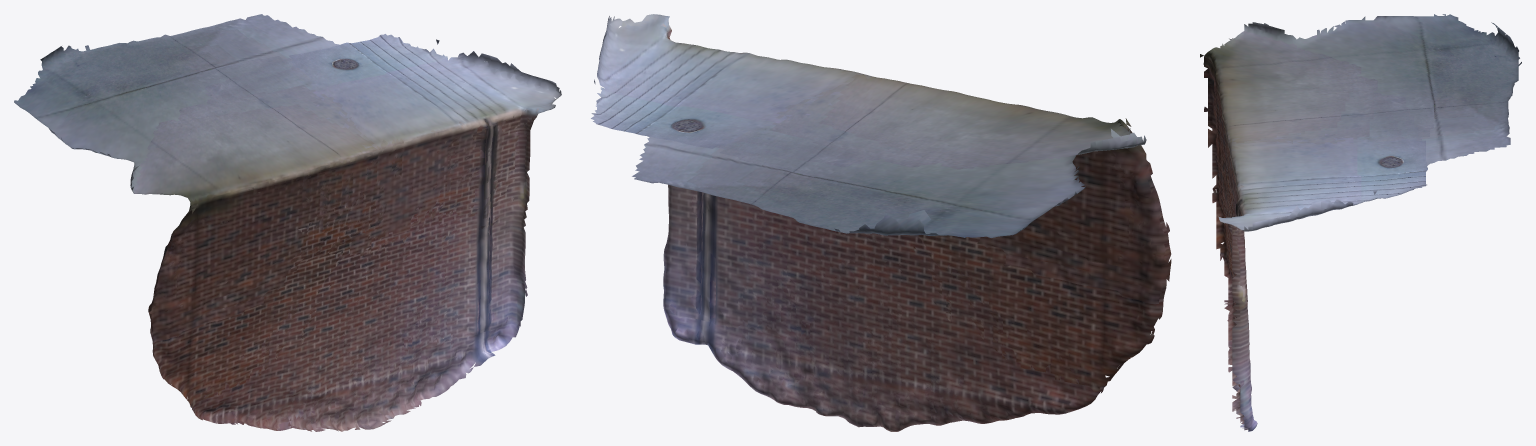
Rendered from Outside1.obj.
3 views of the same model, side by side, from view 1: azimuth 30°, elevation 25°; view 2: azimuth 150°, elevation 25°; view 3: azimuth 270°, elevation 25° (orthographic). The views are drawn at different scales.
Bounding box in the file's own units: 6.98 × 4.87 × 4.74.
1 material, 1 textured.
